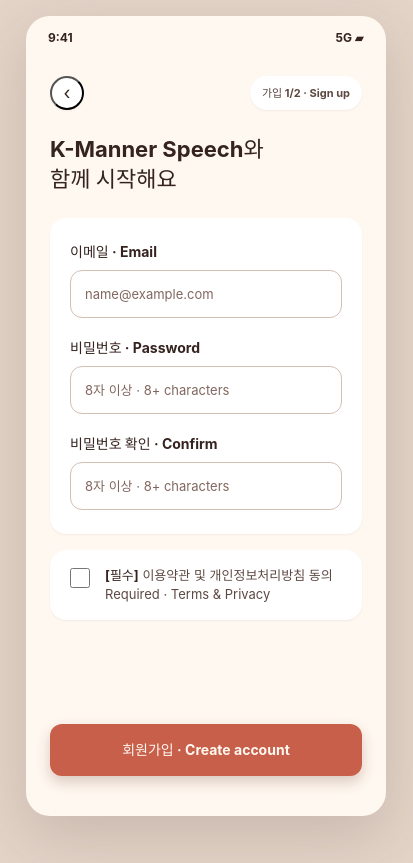
Test: 비밀번호 확인과 필수 약관이 유효하지 않으면 가입 요청을 보내지 않는다
Type "new@example.com" into the field labelled "이메일 · Email" at [206, 294], box [70,270,342,318]
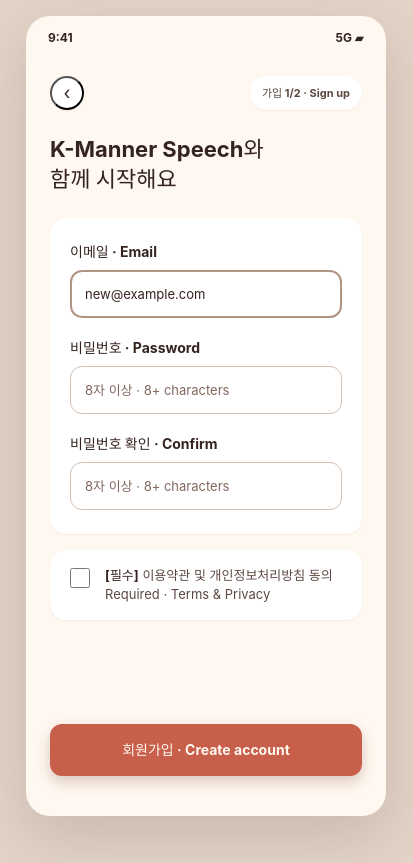
Type "password1" into the password field labelled "비밀번호 · Password" at [206, 390], box [70,366,342,414]
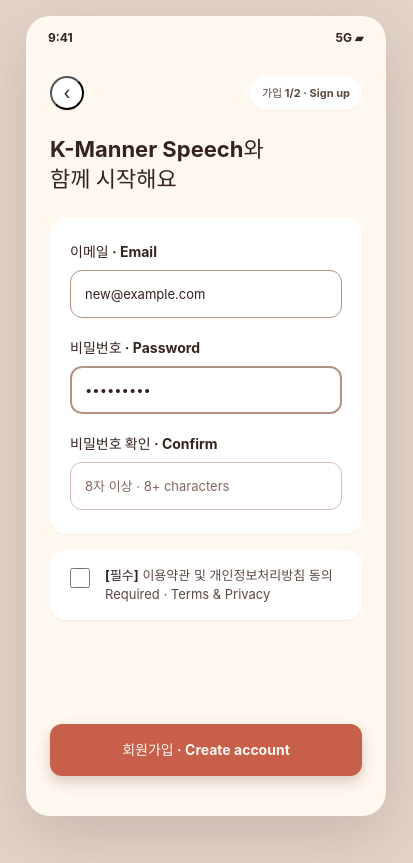
Type "password2" into the password field labelled "비밀번호 확인 · Confirm" at [206, 486], box [70,462,342,510]
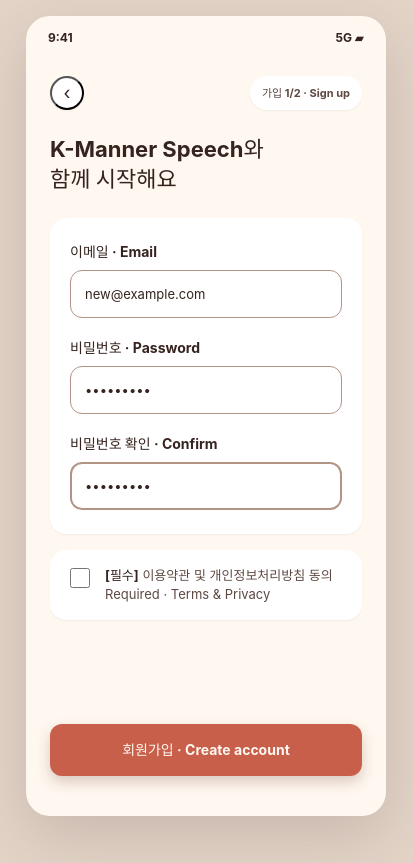
Click the button "회원가입 · Create account" at [206, 750], box [50,724,362,776]
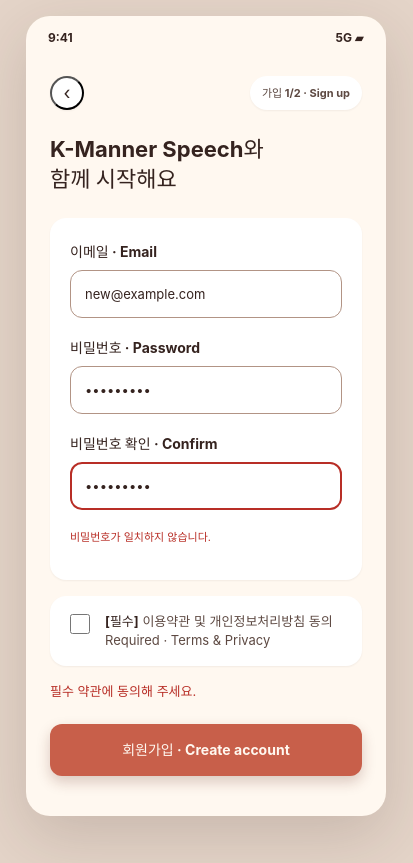
Check: the text "비밀번호가 일치하지 않습니다." is shown, box [70,530,211,544]
Check: the text "필수 약관에 동의해 주세요." is shown, box [50,683,196,699]
